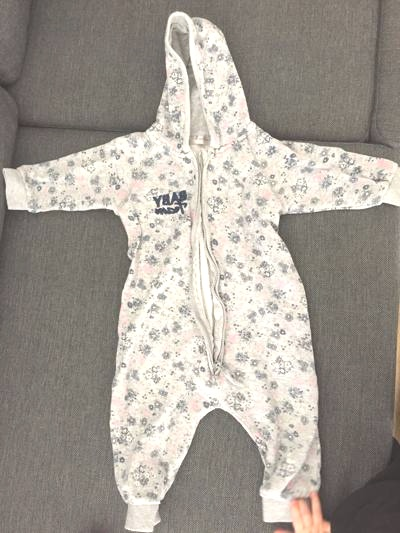Body: (3, 11, 394, 530)
